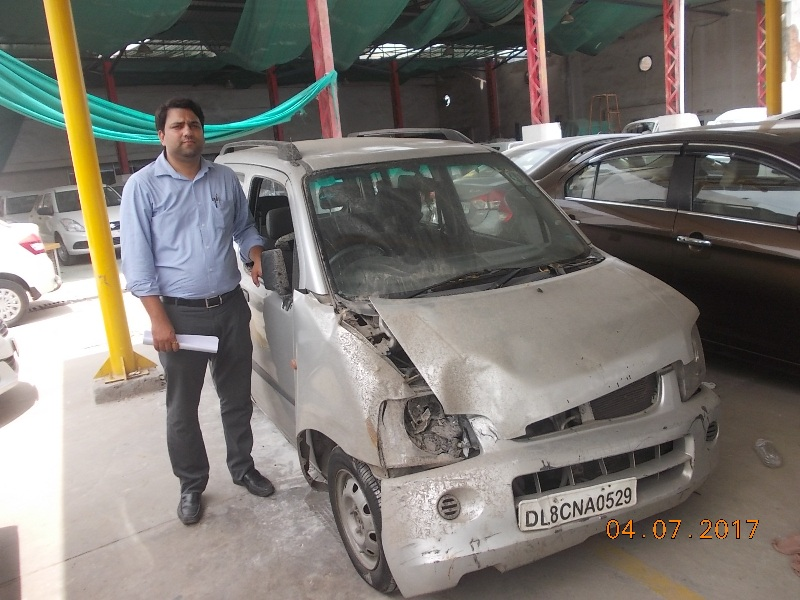Dent: (442, 349, 502, 408)
Dislocation: (332, 292, 424, 391)
